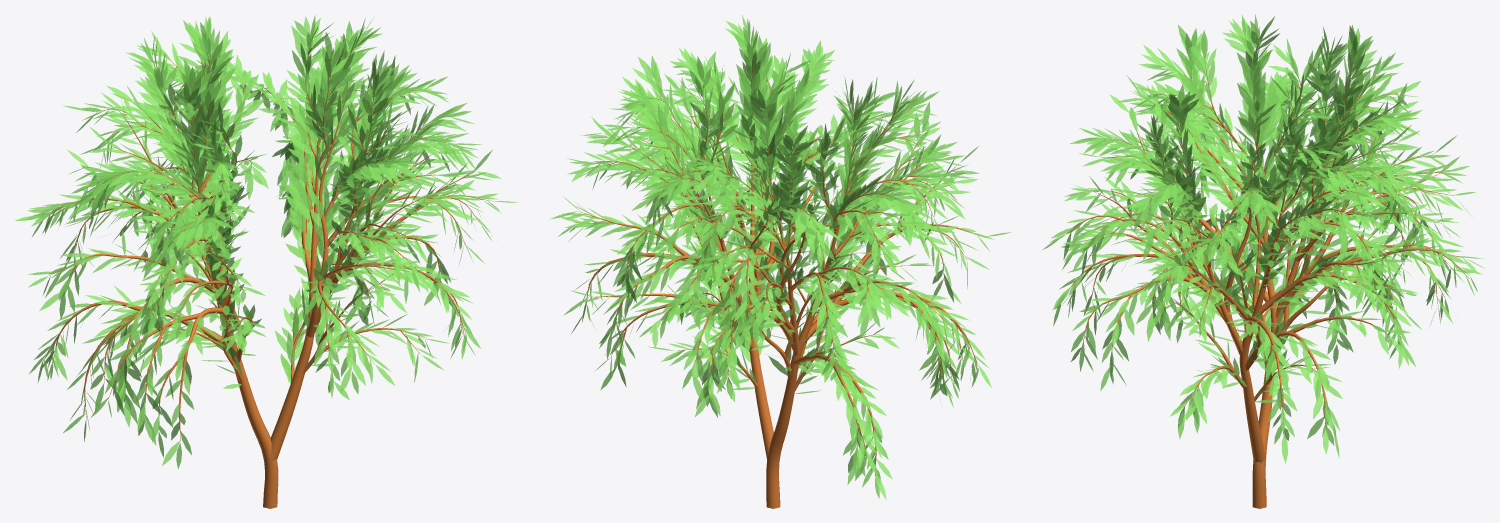
File: tree2.fbx
3 renders of one model, left to right at view 1: azimuth 30°, elevation 25°; view 2: azimuth 150°, elevation 25°; view 3: azimuth 270°, elevation 25°, orthographic. The views are drawn at different scales.
Visible parts, largest first — view 1: leaves, tree; view 2: leaves, tree; view 3: leaves, tree.
Part boxes in pixels (bbox=[...]): leaves: bbox=[15, 15, 518, 469]; tree: bbox=[43, 40, 492, 508]; leaves: bbox=[550, 15, 1010, 499]; tree: bbox=[578, 69, 977, 508]; leaves: bbox=[1043, 14, 1484, 463]; tree: bbox=[1066, 37, 1469, 508].
Bounding box in the file's own units: 6.08 × 6.33 × 5.52.
